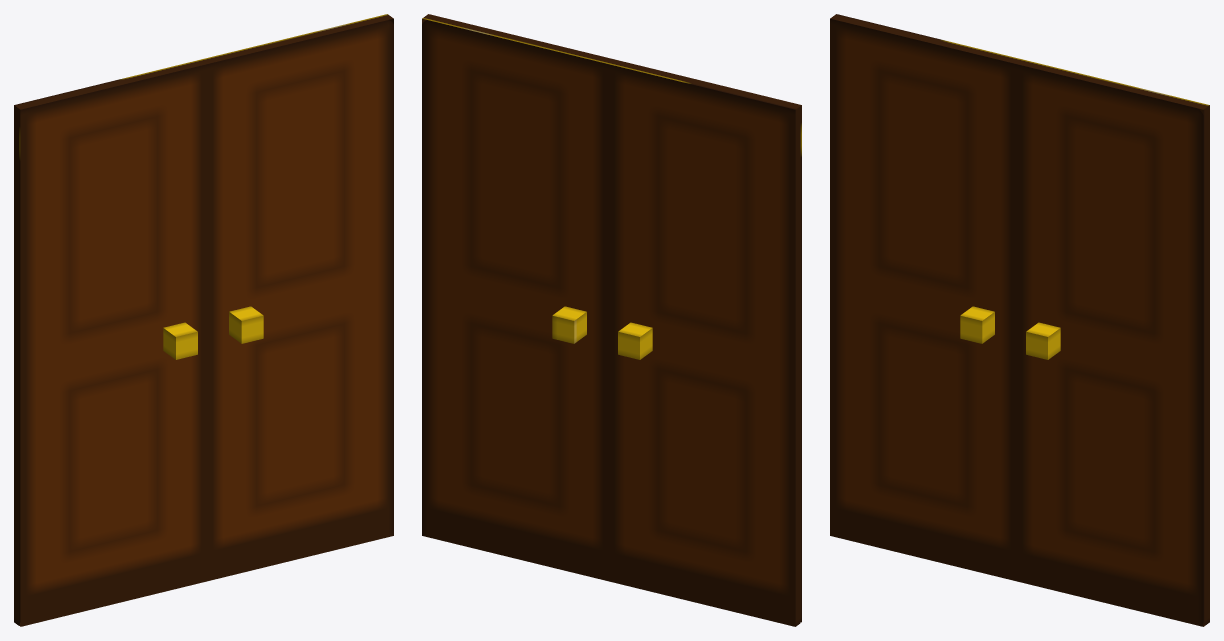
Rendered from doubledoors.fbx.
The picture shows the model from 3 angles, left to right: view 1: azimuth 30°, elevation 25°; view 2: azimuth 150°, elevation 25°; view 3: azimuth 330°, elevation 25°; orthographic projection.
Parts seen in each view (by area): view 1: cube, cube_3, cube_4; view 2: cube, cube_2, cube_1; view 3: cube, cube_4, cube_3.
Boxes of the visible parts, bbox=[...] form: cube: bbox=[14, 14, 393, 626]; cube_3: bbox=[163, 322, 197, 359]; cube_4: bbox=[229, 306, 263, 343]; cube: bbox=[422, 14, 801, 626]; cube_2: bbox=[618, 322, 652, 359]; cube_1: bbox=[552, 306, 586, 343]; cube: bbox=[830, 14, 1209, 626]; cube_4: bbox=[1026, 322, 1060, 359]; cube_3: bbox=[960, 306, 994, 343].
Size of the model in its own units: 212 by 281 by 31.25.
Materials: 1 (1 with a texture image).
